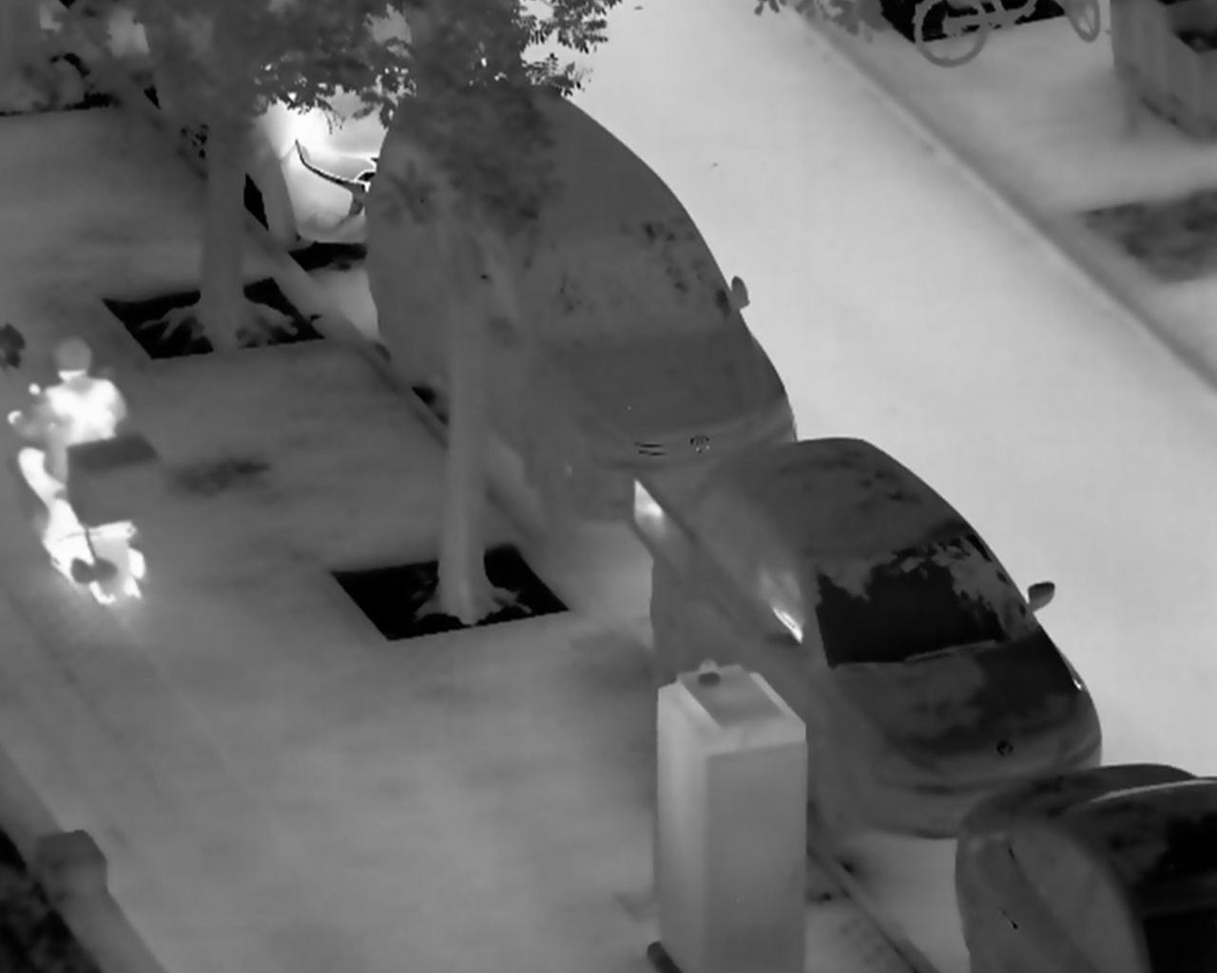person: (10, 331, 127, 522)
